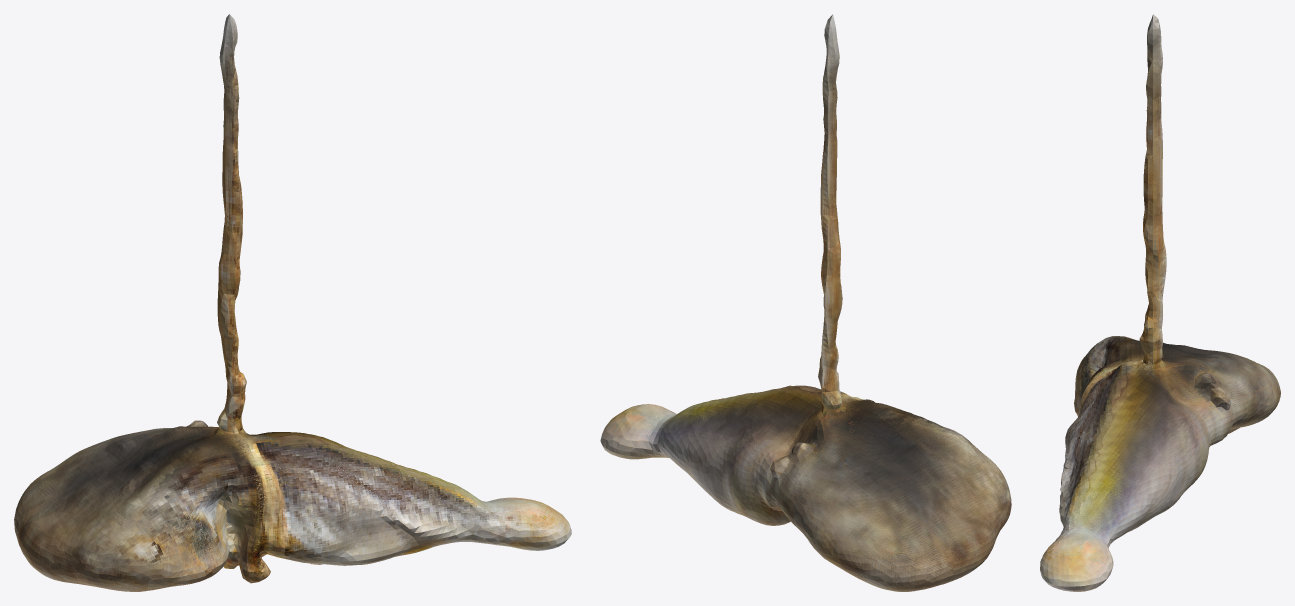
Rendered from GRGB-3D.glb.
3 renders of one model, left to right at view 1: azimuth 30°, elevation 25°; view 2: azimuth 150°, elevation 25°; view 3: azimuth 270°, elevation 25°, orthographic. The views are drawn at different scales.
Bounding box in the file's own units: 1 × 1.15 × 0.5361.
1 material, 1 textured.
